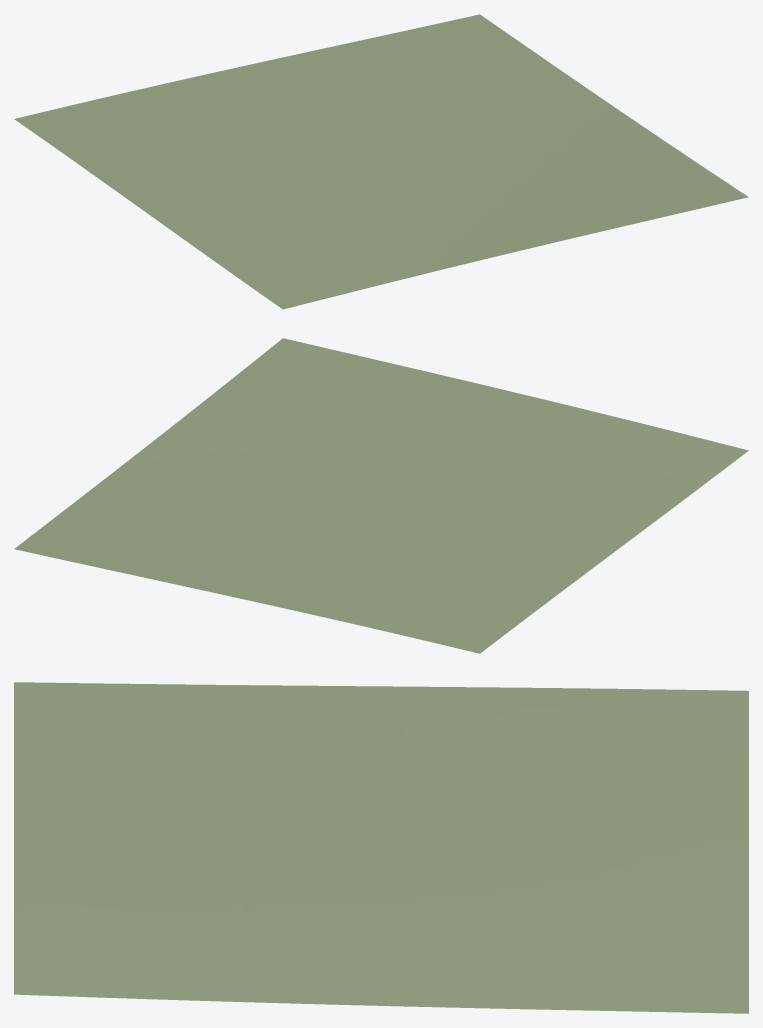
Rendered from expanse-2-11.glb.
3 views of the same model, one above another, from view 1: azimuth 30°, elevation 25°; view 2: azimuth 150°, elevation 25°; view 3: azimuth 270°, elevation 25° (orthographic). The views are drawn at different scales.
Parts seen in each view (by area): view 1: expanse-2-11; view 2: expanse-2-11; view 3: expanse-2-11.
Boxes of the visible parts, x1,y1,x2,y2 form: expanse-2-11: (14,14,748,309); expanse-2-11: (14,338,748,653); expanse-2-11: (14,682,748,1013).
Bounding box in the file's own units: 256 × 8.65 × 256.
